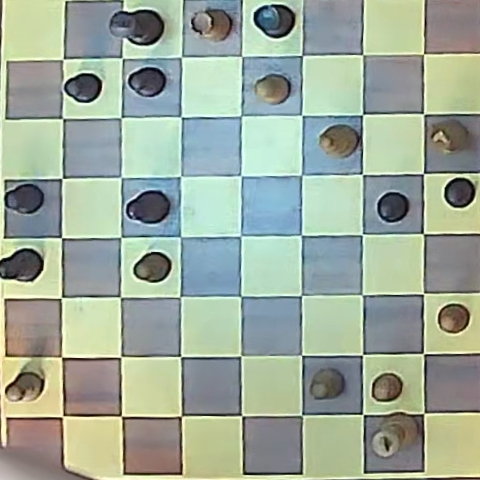black-bishop: (0, 248, 44, 283), (125, 190, 170, 224)
black-king: (110, 9, 164, 46)
black-pawn: (4, 183, 44, 215), (127, 66, 166, 97), (63, 72, 102, 102), (377, 191, 409, 222), (444, 177, 475, 208)
black-rook: (252, 3, 294, 39)
white-bishop: (318, 124, 360, 159)
white-king: (371, 413, 419, 459)
white-knight: (430, 120, 469, 154)
white-pawn: (6, 372, 44, 403), (133, 252, 171, 283), (255, 74, 290, 104), (310, 368, 343, 399), (438, 304, 469, 333), (372, 373, 403, 401)
white-rook: (192, 9, 231, 42)
